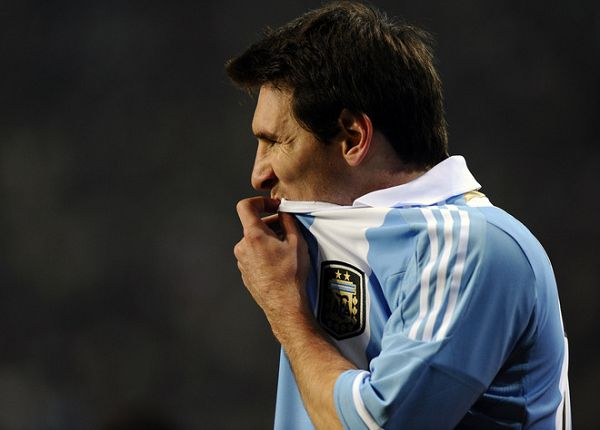face: (251, 75, 340, 230)
